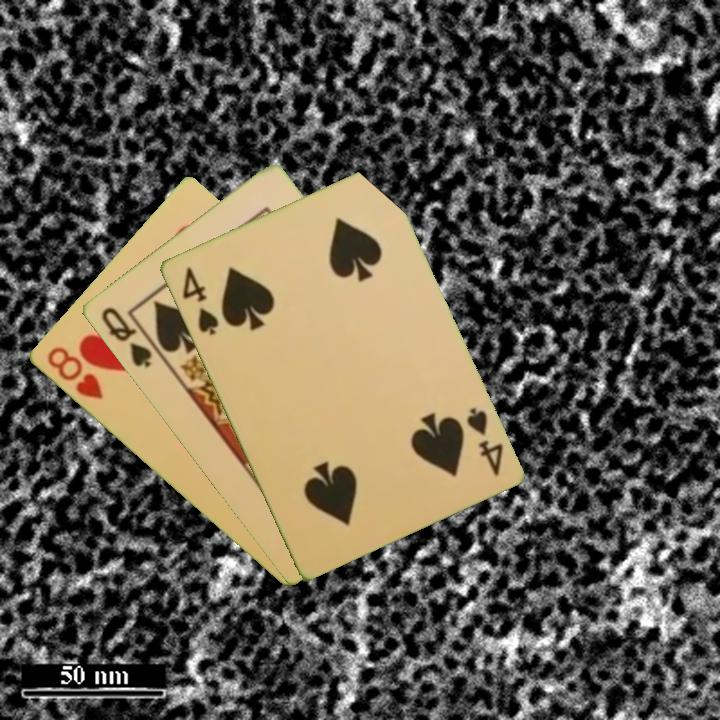4s: (462, 403, 506, 479), (178, 263, 221, 338)
8h: (43, 343, 106, 403)
Qs: (97, 303, 154, 371)
